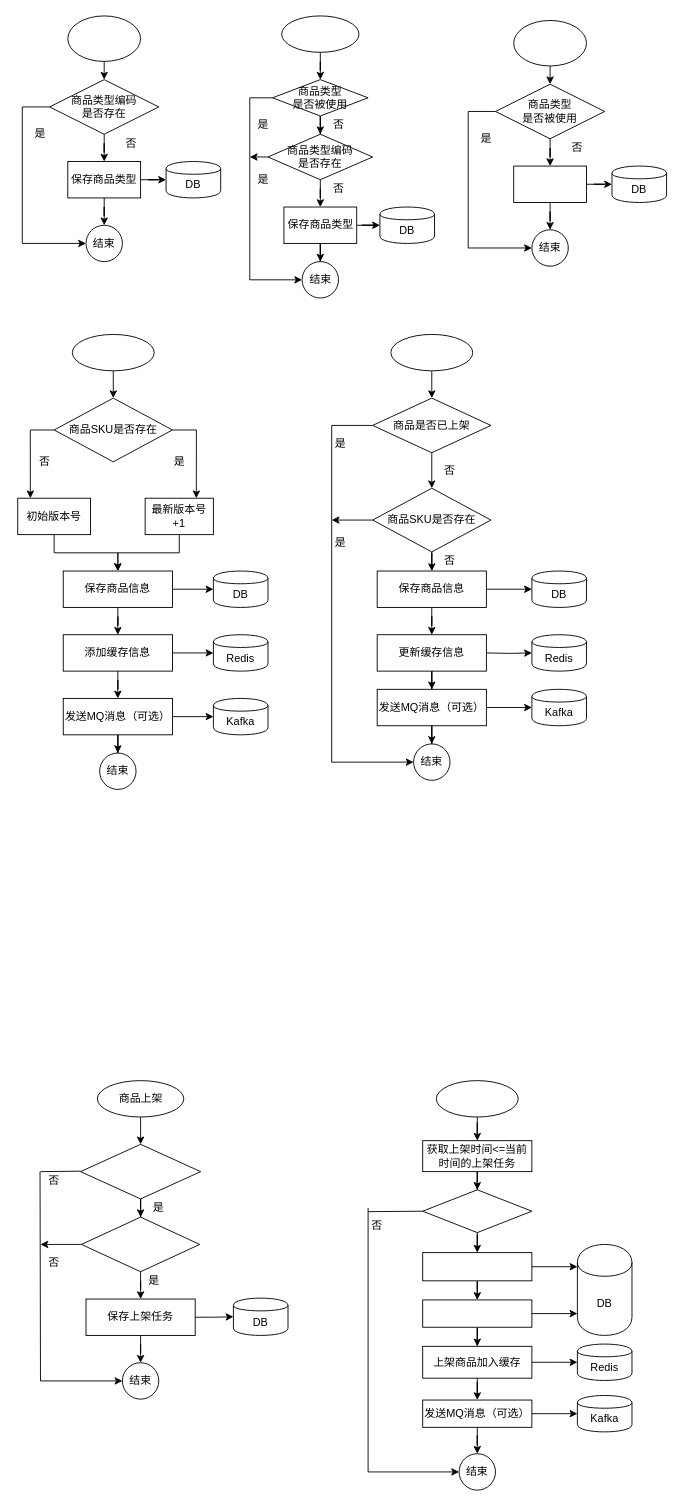
Some shapes in this 683 by 1506 pixel diagram are drawn without their labels. Here are the shapes that lost their labels. From the top down, the box of each, then its label:
(67, 15, 141, 61): 添加商品类型
(281, 15, 359, 52): 编辑商品类型
(513, 20, 586, 66): 删除商品类型
(513, 165, 586, 202): 逻辑删除 商品类型
(71, 334, 154, 371): 添加商品
(390, 334, 473, 371): 编辑商品
(435, 1080, 518, 1117): 分布式 任务调度
(80, 1143, 201, 1199): 上架时间是否在 商品有效时间内
(422, 1189, 532, 1233): 是否有 待处理任务
(81, 1216, 200, 1272): 库存数量是否有效
(422, 1252, 532, 1281): 更新上架任务状态
(422, 1299, 532, 1327): 更新商品状态
